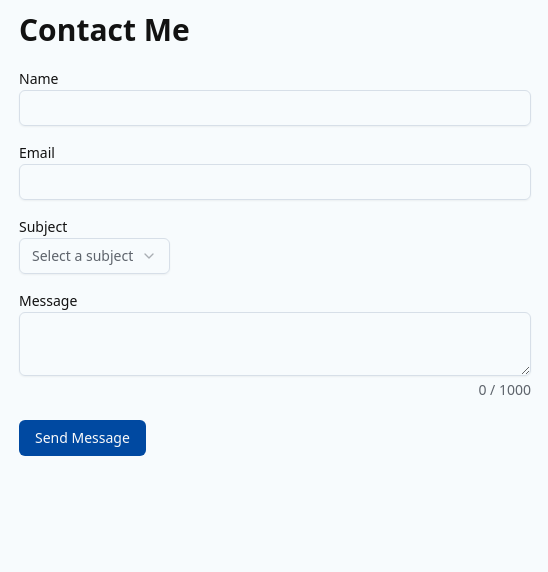
Test: Epic 1 Story 2 — Validation, Character Counter, and Error States › On-Submit Validation — all four fields simultaneously › shows all four field error messages at once when Submit is clicked with empty fields
What coordinates should you click on to do the following:
click the button "Send Message"
I would click on:
 (82, 438)
Its box is x1=19 y1=420 x2=146 y2=456.
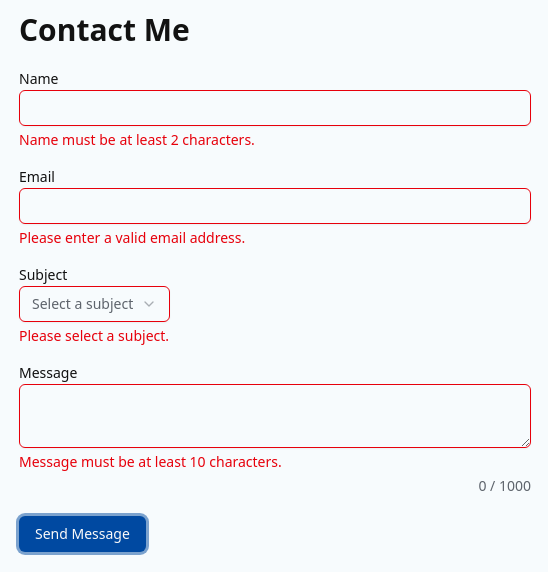
Expected: the text "Name must be at least 2 characters." is shown, x1=19 y1=130 x2=255 y2=149
Expected: the text "Please enter a valid email address." is shown, x1=19 y1=228 x2=245 y2=247
Expected: the text "Please select a subject." is shown, x1=19 y1=326 x2=169 y2=345
